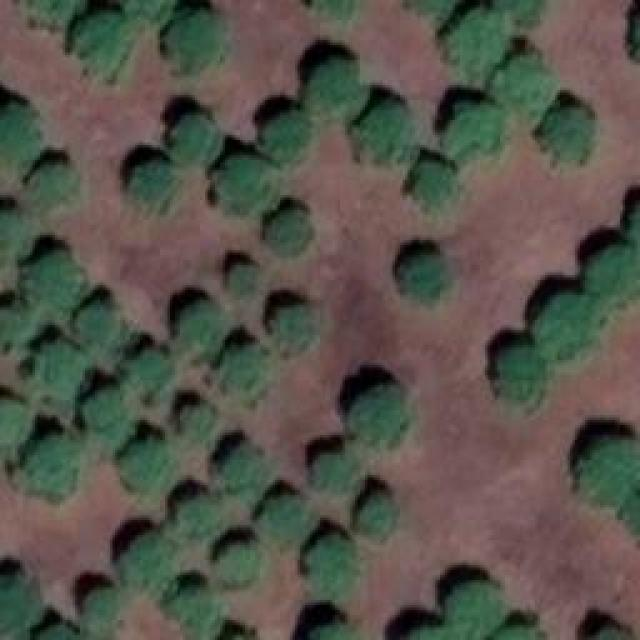Tree: (447, 10, 505, 78), (497, 55, 555, 120), (538, 295, 603, 353), (582, 438, 640, 501), (358, 105, 418, 163), (215, 158, 278, 213), (32, 342, 90, 400), (348, 388, 403, 448), (25, 253, 83, 308), (443, 103, 503, 156), (305, 63, 365, 113), (25, 438, 78, 493), (170, 13, 225, 66), (78, 18, 131, 71), (587, 247, 640, 300), (123, 535, 176, 588), (450, 585, 503, 635), (125, 440, 173, 493), (0, 575, 40, 638), (218, 345, 268, 395), (85, 388, 130, 443), (0, 105, 40, 165), (500, 348, 548, 398), (173, 592, 223, 640), (548, 108, 593, 161), (260, 498, 308, 543), (175, 115, 218, 163), (77, 305, 125, 348), (223, 447, 266, 495), (178, 303, 223, 348), (178, 498, 228, 538), (313, 538, 353, 588), (265, 113, 310, 156), (405, 258, 448, 303), (415, 162, 455, 210), (85, 587, 120, 640), (270, 210, 313, 253), (218, 545, 261, 583), (313, 452, 356, 490), (130, 350, 170, 390), (132, 163, 170, 203), (308, 0, 364, 27), (360, 495, 395, 538), (0, 208, 30, 258), (33, 165, 73, 200), (0, 308, 38, 343), (270, 308, 308, 343), (27, 0, 82, 22), (0, 403, 30, 443), (308, 620, 360, 640), (183, 408, 213, 441), (127, 0, 175, 20), (233, 265, 258, 290)
